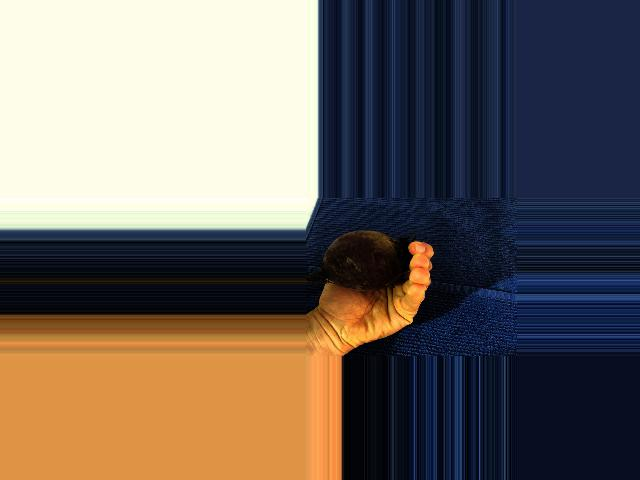beet: (306, 231, 417, 292)
